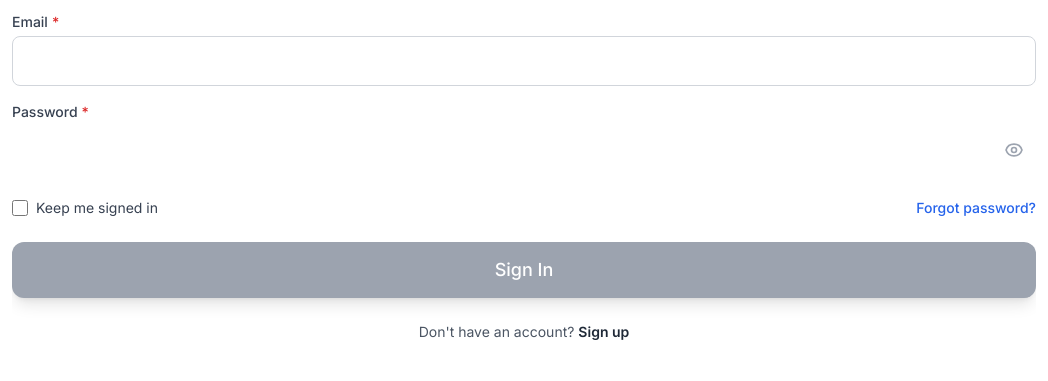
Scenario: LoginForm › shows validation error when email is empty on submit
Type "password123" into the password field labelled "Password*" at (524, 150), box [12, 126, 1036, 174]
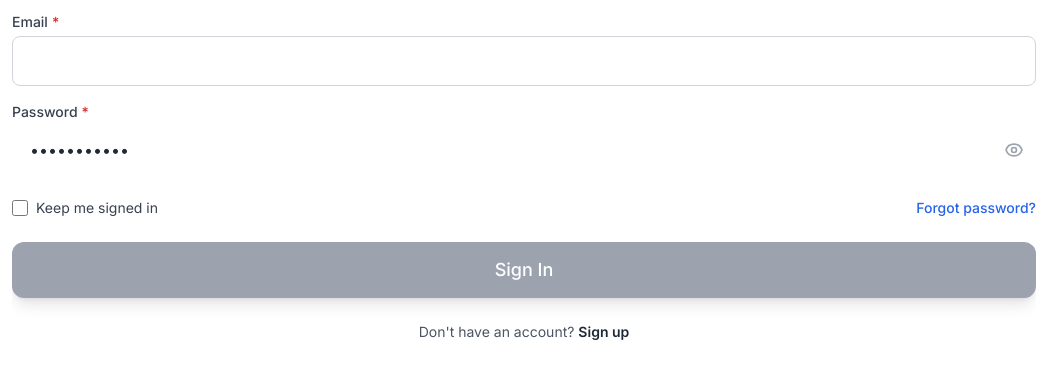
Submit the form
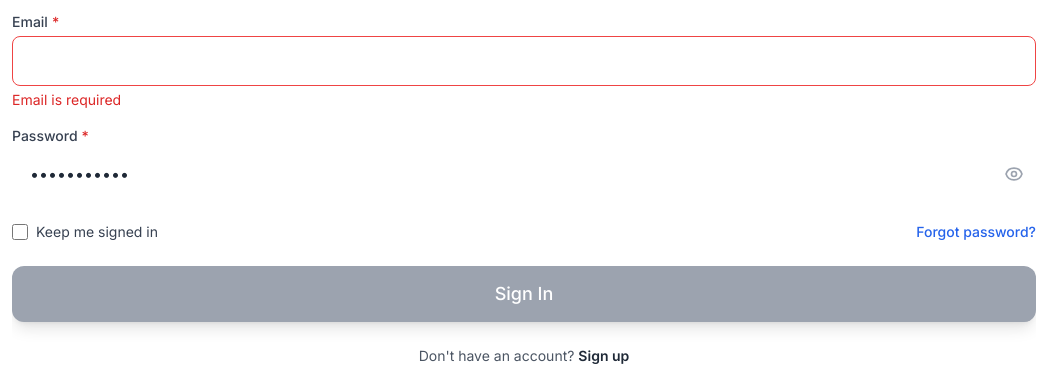
expect the text "Email is required" is shown: met, box [12, 91, 121, 108]
